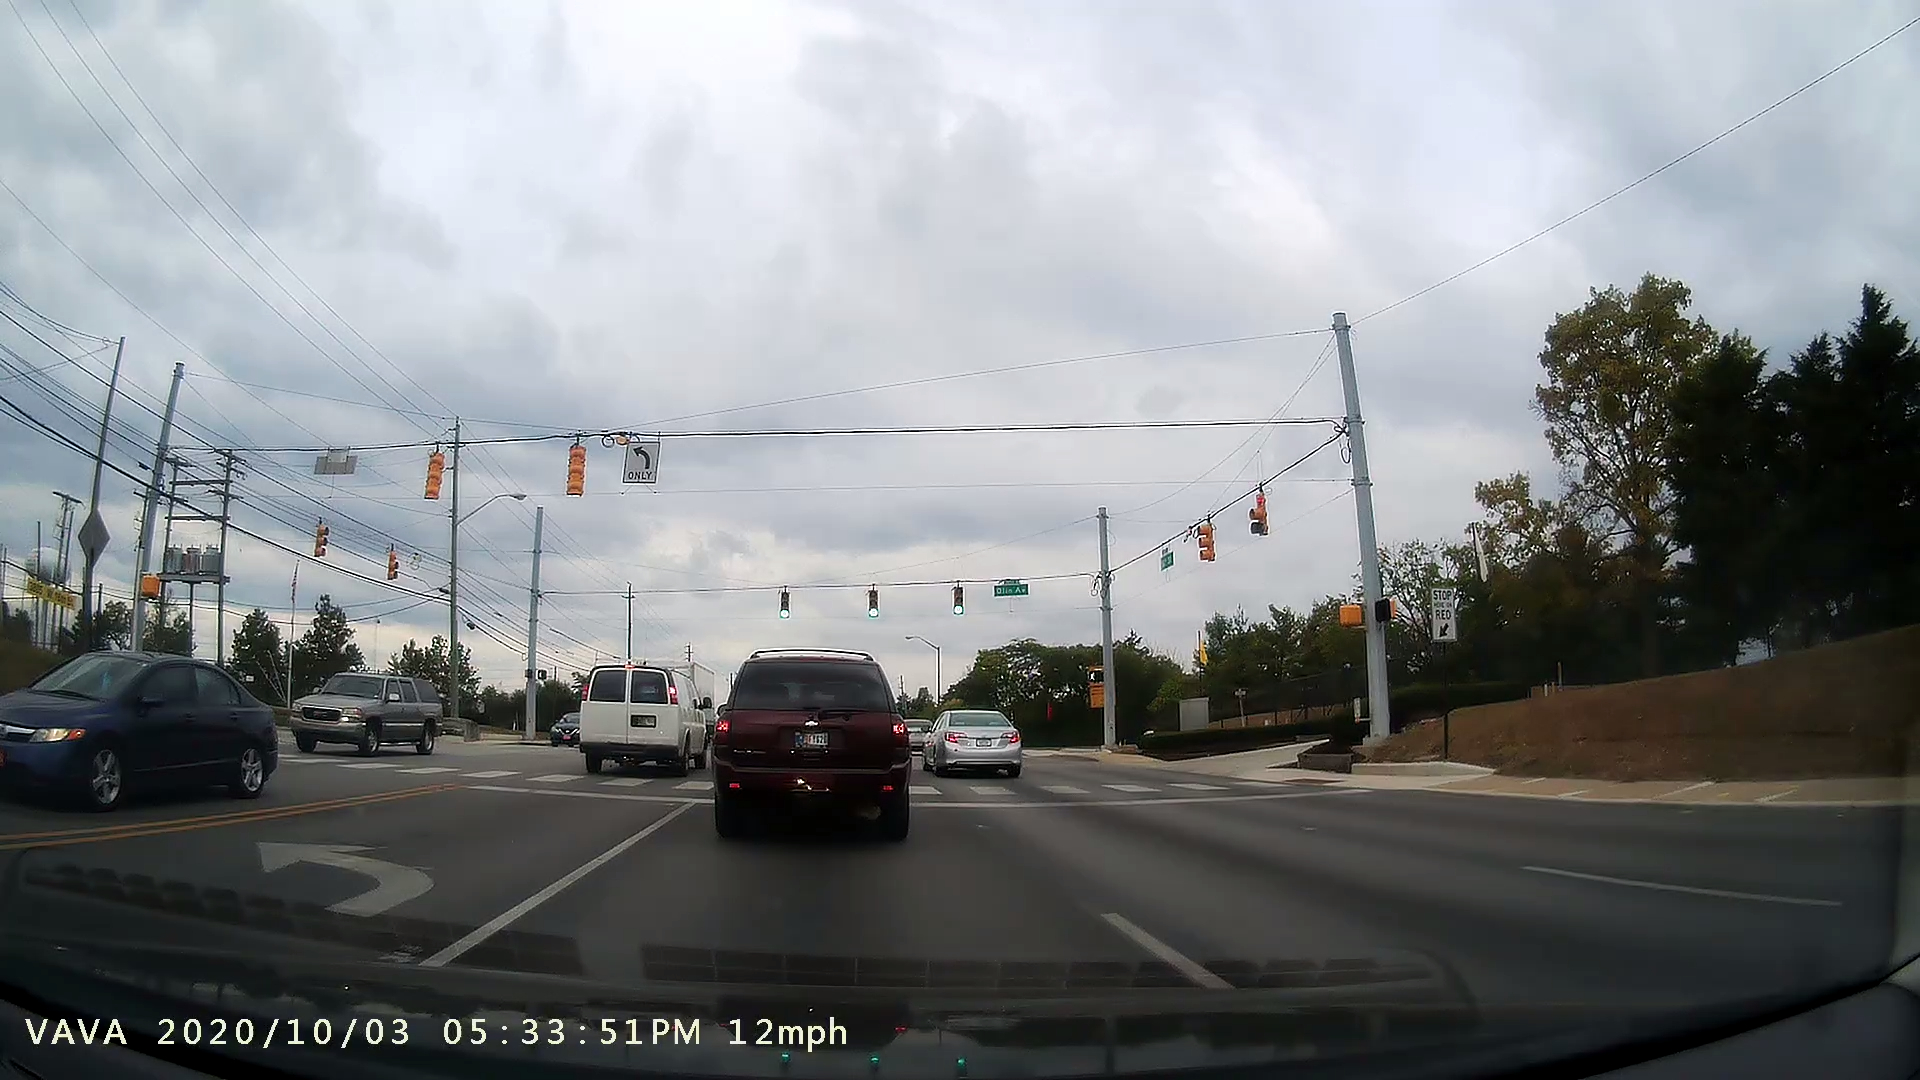left_turn: (239, 820, 443, 919)
